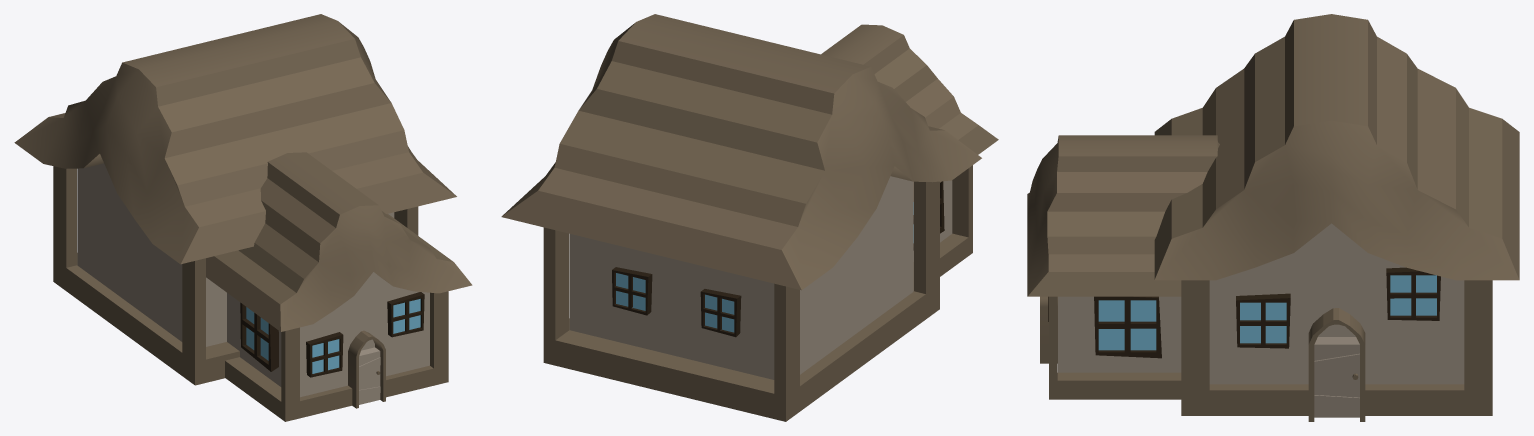
File: big house.fbx
3 renders of one model, left to right at view 1: azimuth 30°, elevation 25°; view 2: azimuth 150°, elevation 25°; view 3: azimuth 270°, elevation 25°, orthographic. The views are drawn at different scales.
Visible parts, largest first — view 1: pCube74; view 2: pCube74; view 3: pCube74.
Part boxes in pixels (<box>): pCube74: <box>14,14,472,421</box>; pCube74: <box>501,14,998,421</box>; pCube74: <box>1027,14,1519,421</box>.
Bounding box in the file's own units: 12.41 × 11.27 × 17.39.
Materials: 5 (2 with a texture image).
